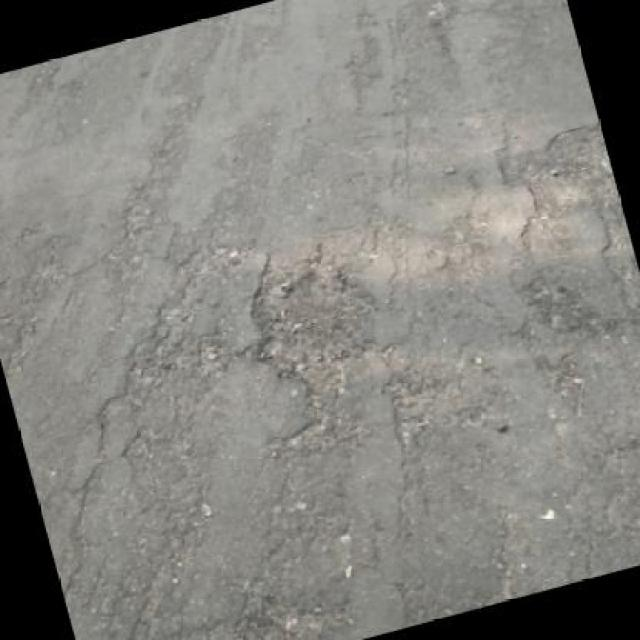pothole: (231, 240, 404, 408), (512, 112, 616, 216), (222, 577, 356, 640)
